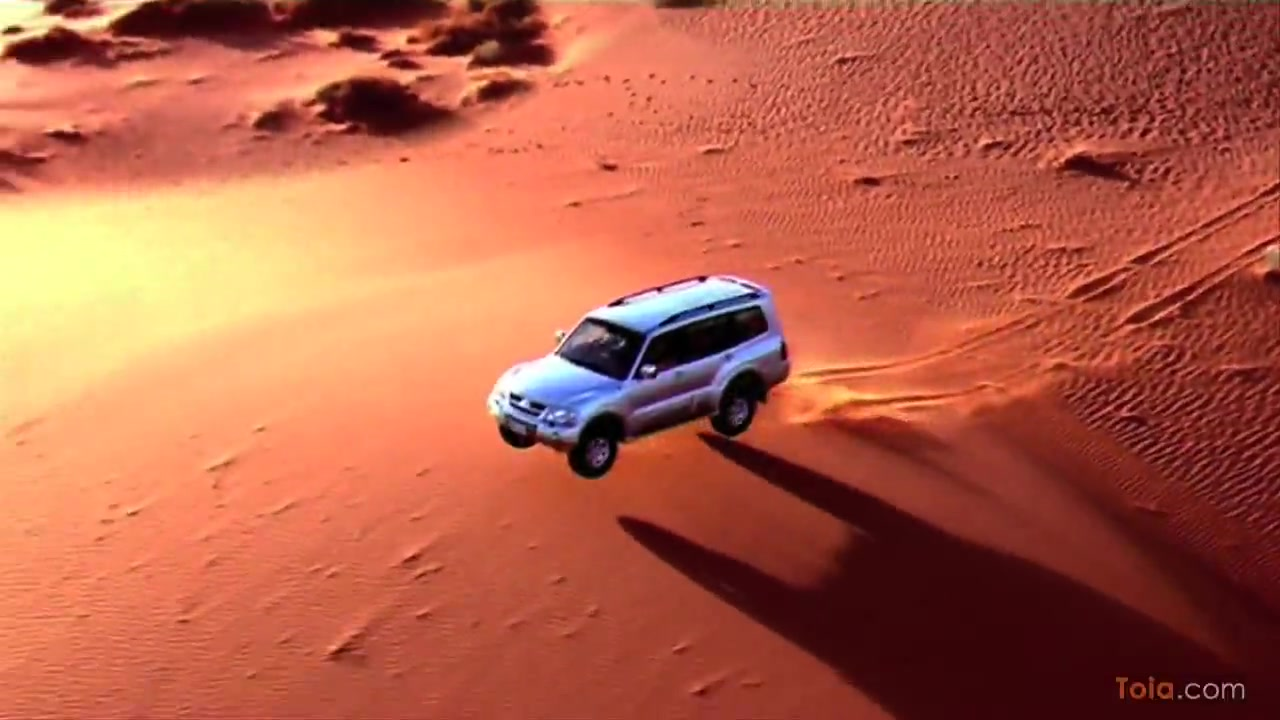car: (486, 267, 795, 477)
